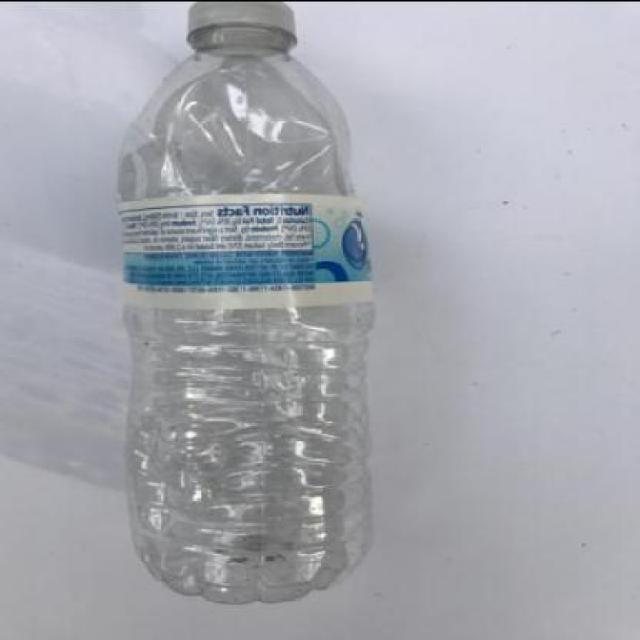PLASTIC: (115, 2, 374, 600), (113, 189, 376, 306), (183, 1, 295, 54)
